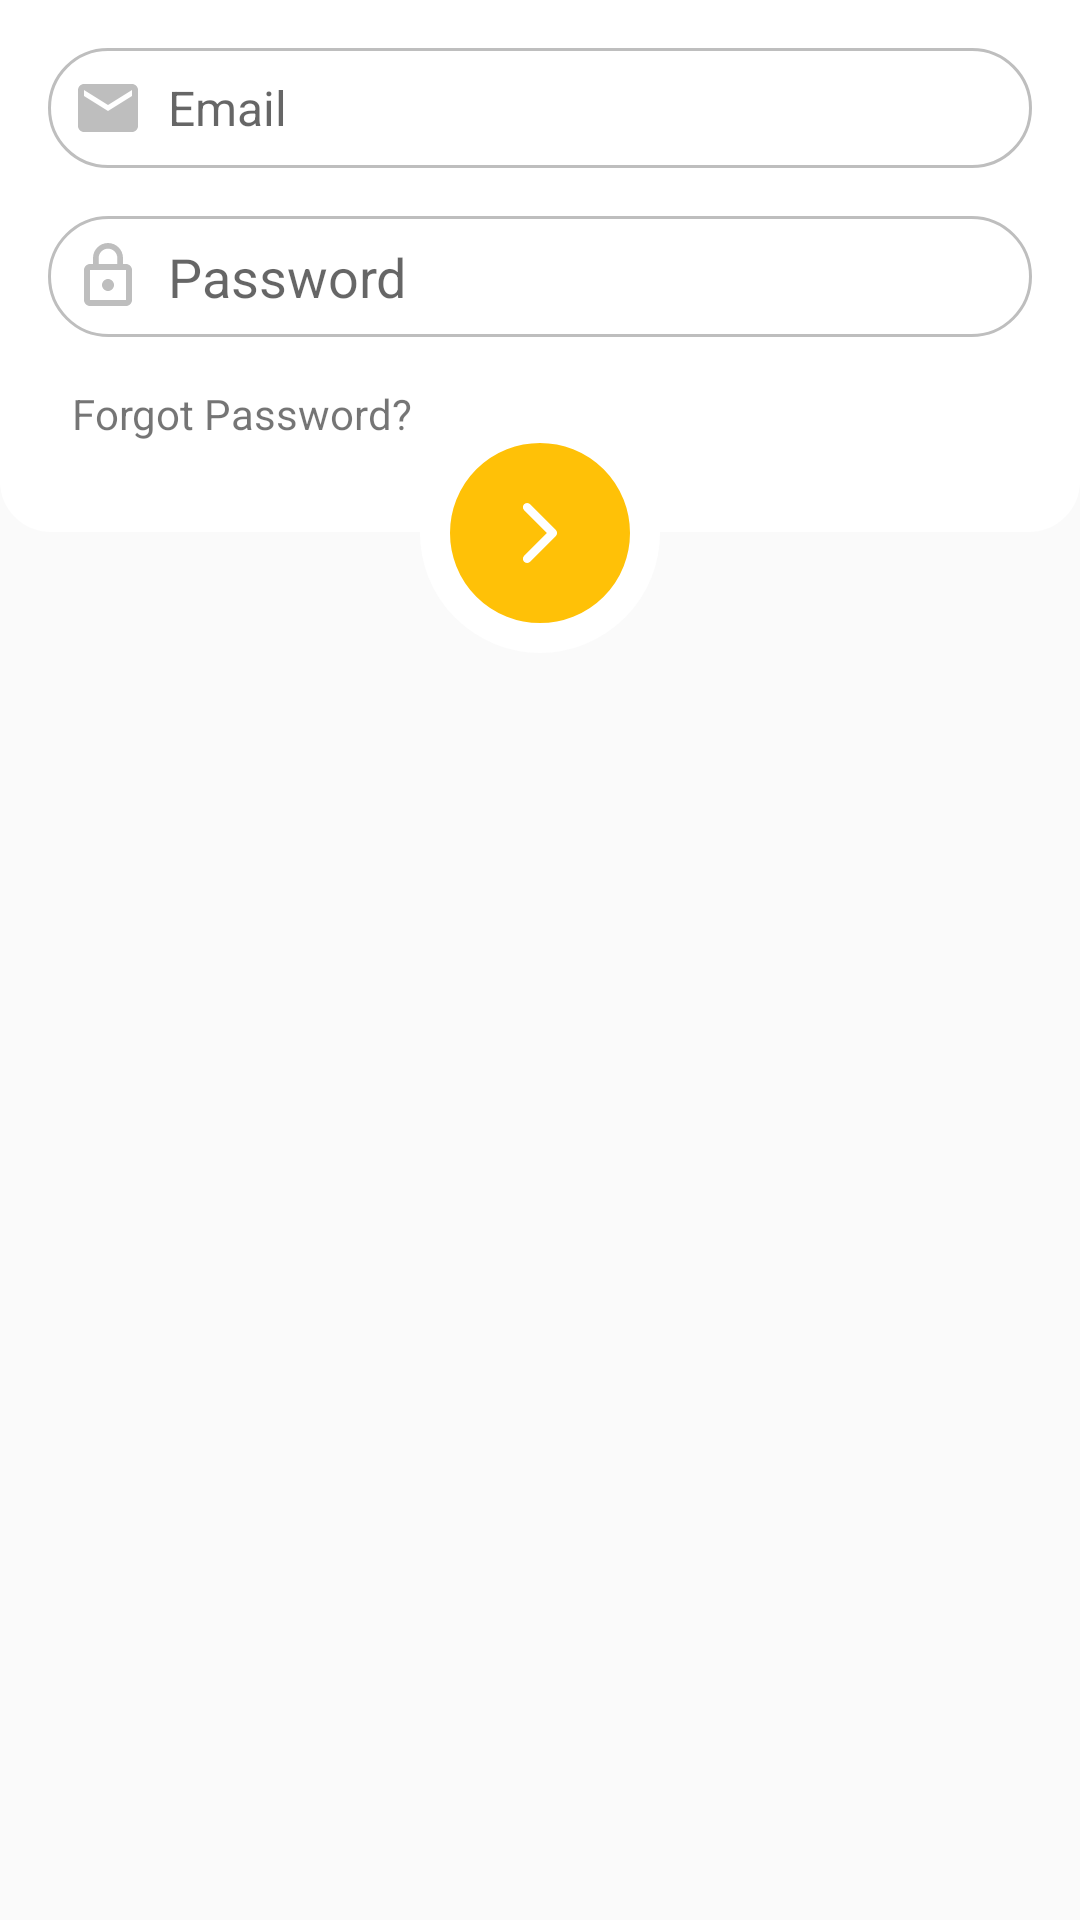

Locate icon controls on the screen. Image size 1080px x 1920px, boxes as (x1, y1, x2, y2).
arrow right: (523, 503, 557, 563)
